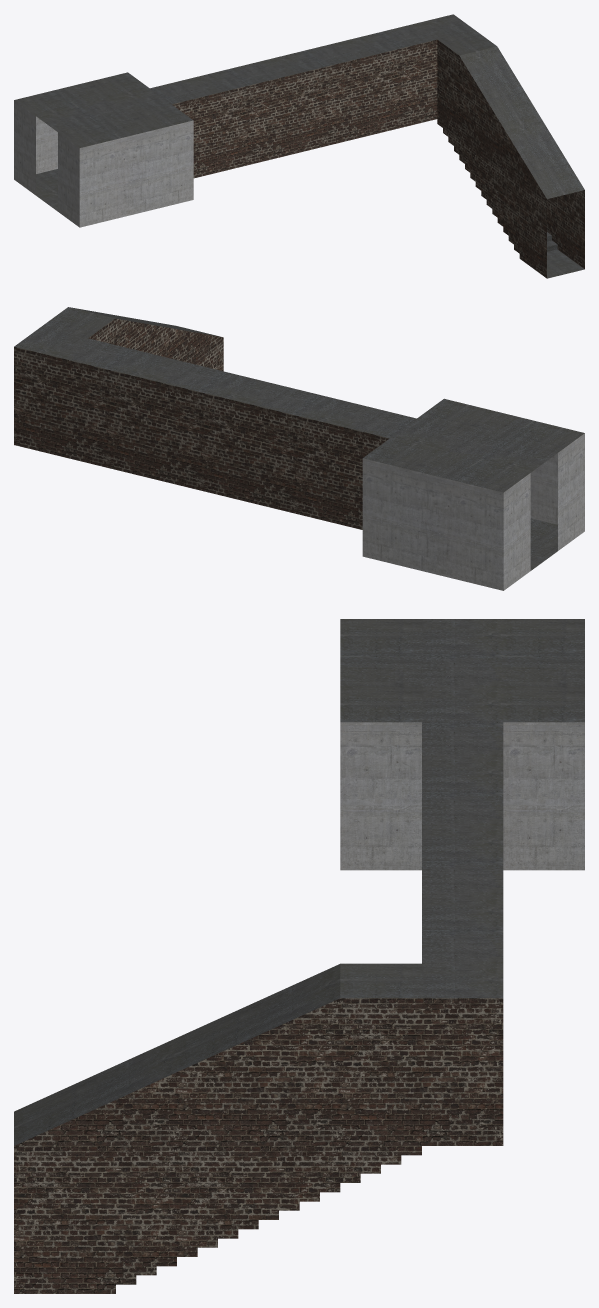
File: map0.fbx
3 views of the same model, one above another, from view 1: azimuth 30°, elevation 25°; view 2: azimuth 150°, elevation 25°; view 3: azimuth 270°, elevation 25° (orthographic). The views are drawn at different scales.
Size of the model in its own units: 11 by 4 by 7.
